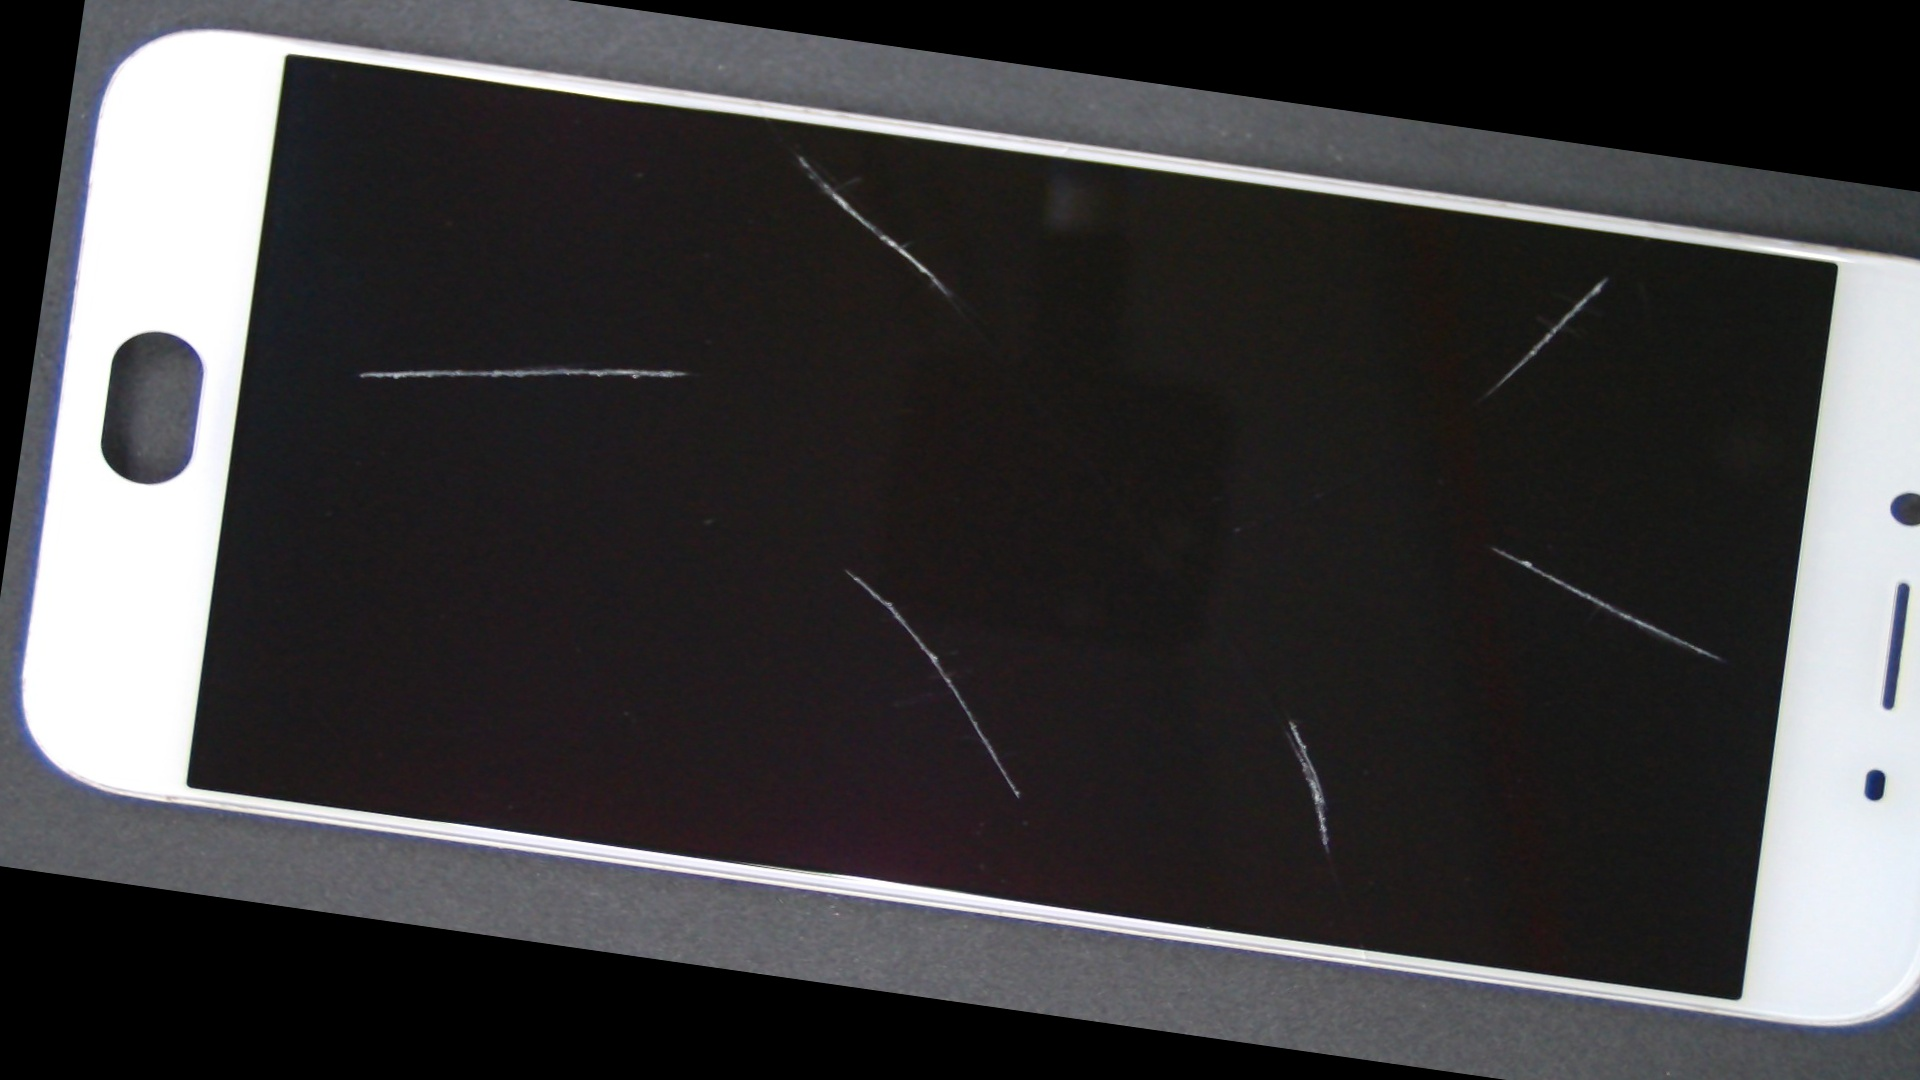oil: (605, 326, 1920, 1080), (737, 240, 1920, 824), (396, 251, 1294, 887), (833, 103, 1920, 404), (340, 152, 1027, 589), (431, 44, 1168, 268)
